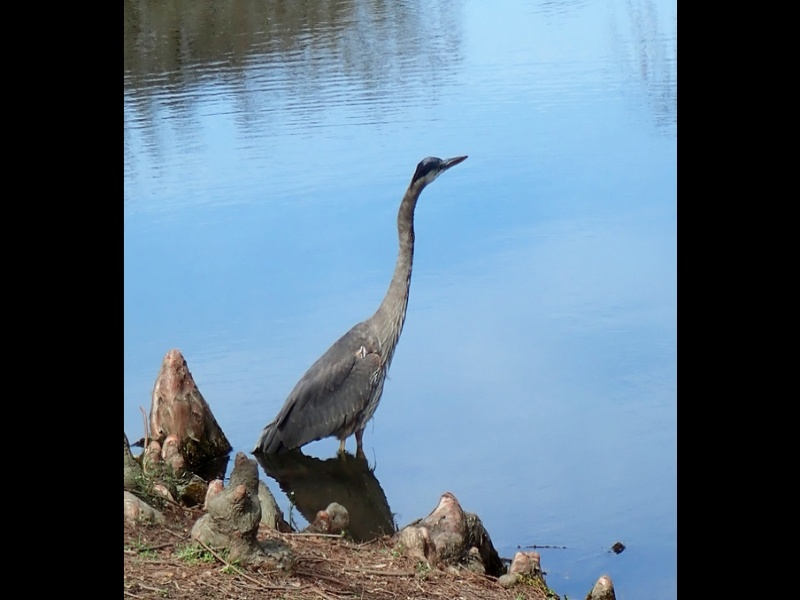heron: (255, 151, 472, 460)
